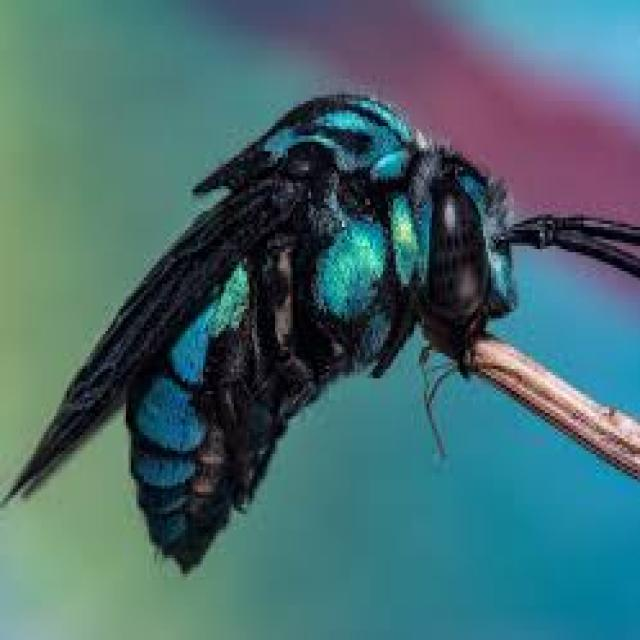Xylocopa: (18, 29, 576, 596)
